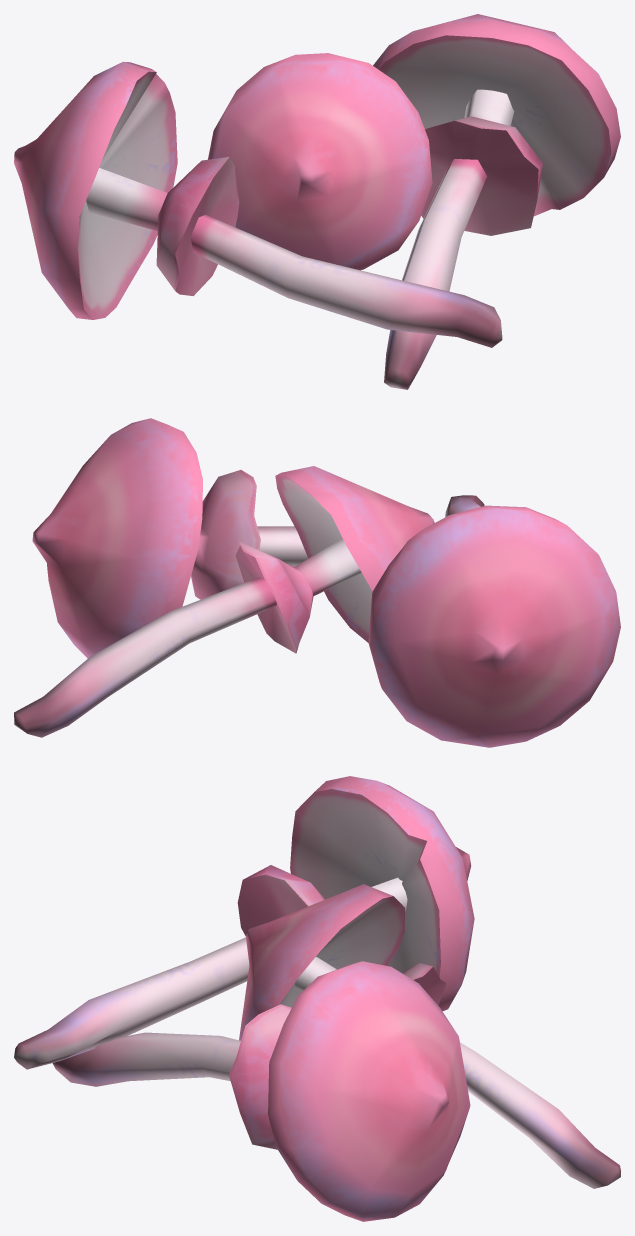
Rendered from SM_Potion_Props_Loot_Mushroom_02_C.fbx.
3 renders of one model, top to bottom at view 1: azimuth 30°, elevation 25°; view 2: azimuth 150°, elevation 25°; view 3: azimuth 270°, elevation 25°, orthographic. The views are drawn at different scales.
Visible parts, largest first — view 1: SM_Potion_Props_Loot_Mushroom_02_C_LOD0; view 2: SM_Potion_Props_Loot_Mushroom_02_C_LOD0; view 3: SM_Potion_Props_Loot_Mushroom_02_C_LOD0.
Boxes of the visible parts, bbox=[...] form: SM_Potion_Props_Loot_Mushroom_02_C_LOD0: bbox=[14, 14, 620, 389]; SM_Potion_Props_Loot_Mushroom_02_C_LOD0: bbox=[14, 418, 620, 747]; SM_Potion_Props_Loot_Mushroom_02_C_LOD0: bbox=[14, 776, 620, 1221].
Size of what is drawn, in the model's own units: 14.18 by 5.94 by 13.44.
